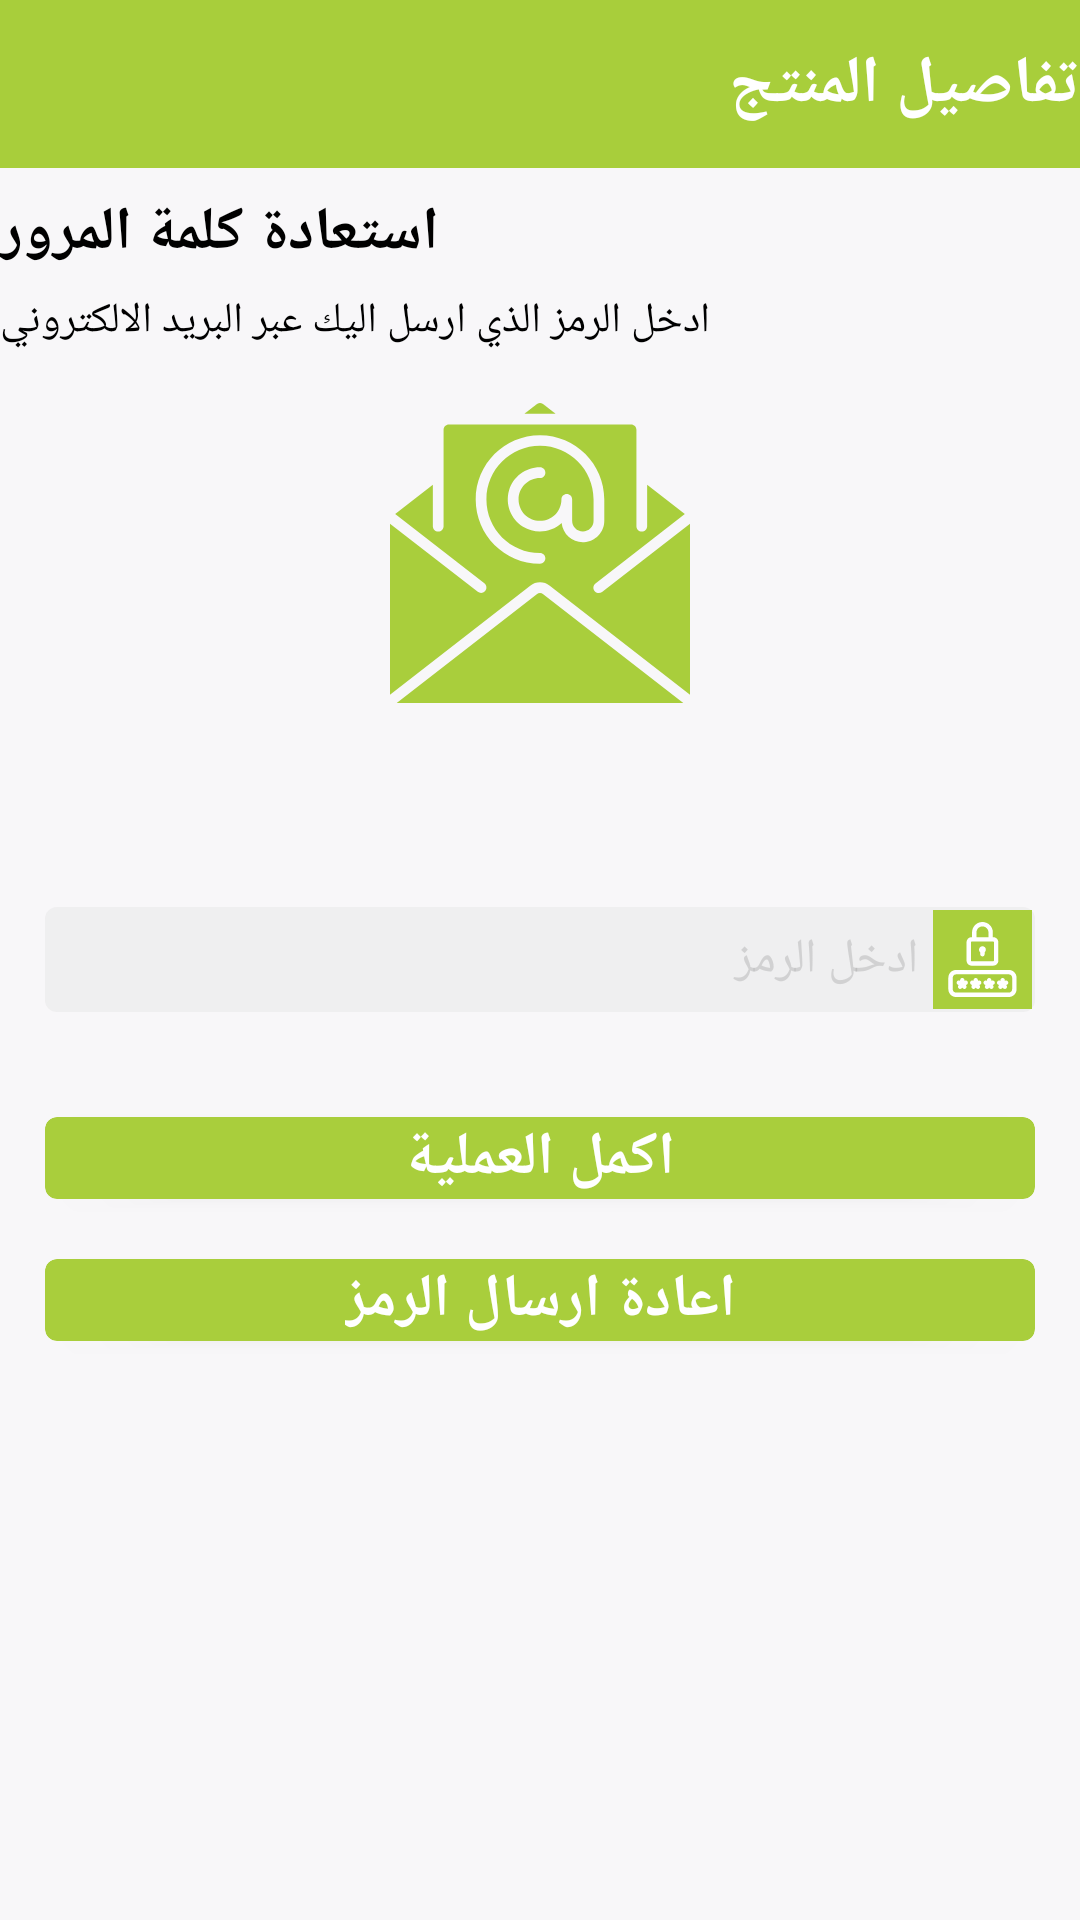

Icons on this 1080px x 1920px Android screen, each with its box as (x1, y1, x2, y2):
password: (933, 910, 1032, 1009)
